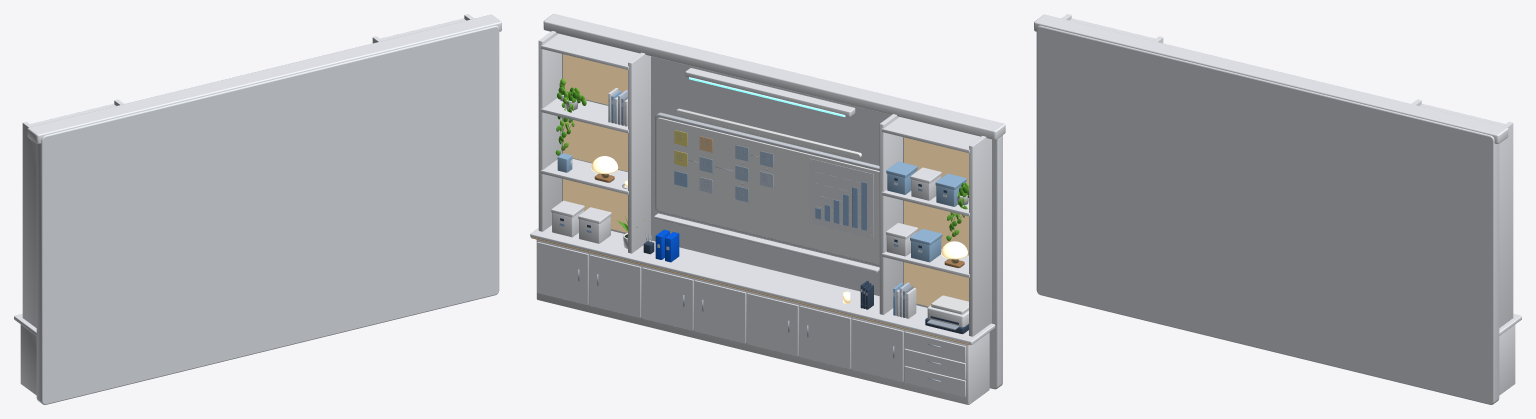
Rendered from 04-nodeworks-back-wall-center copy.glb.
3 views of the same model, side by side, from view 1: azimuth 30°, elevation 25°; view 2: azimuth 150°, elevation 25°; view 3: azimuth 330°, elevation 25° (orthographic). The views are drawn at different scales.
Visible parts, largest first — view 1: Wall__wall, Wall__white, Right_shelves_and_accessories__white, Cabinet__white; view 2: Cabinet__white, Wall__wall, Whiteboard__paper, Left_shelves_and_accessories__white, Right_shelves_and_accessories__white, Wall__white, Left_shelves_and_accessories__shelf_warm_back, Right_shelves_and_accessories__shelf_warm_back, Whiteboard__white, Right_shelves_and_accessories__softblue, Whiteboard__boardframe, Whiteboard__softblue (+7 smaller); view 3: Wall__wall, Wall__white, Left_shelves_and_accessories__white, Cabinet__white.
Part boxes in pixels (box(x1,y1,x2,y2)): Wall__wall: box(36, 25, 499, 404); Wall__white: box(27, 14, 501, 143); Right_shelves_and_accessories__white: box(22, 99, 123, 327); Cabinet__white: box(14, 314, 36, 395); Cabinet__white: box(530, 225, 995, 404); Wall__wall: box(562, 54, 1002, 389); Whiteboard__paper: box(656, 108, 879, 264); Left_shelves_and_accessories__white: box(538, 31, 650, 253); Right_shelves_and_accessories__white: box(879, 114, 991, 336); Wall__white: box(543, 14, 1005, 139); Left_shelves_and_accessories__shelf_warm_back: box(563, 54, 627, 232); Right_shelves_and_accessories__shelf_warm_back: box(904, 137, 968, 306); Whiteboard__white: box(654, 158, 879, 272); Right_shelves_and_accessories__softblue: box(886, 161, 966, 315); Whiteboard__boardframe: box(655, 112, 879, 266); Whiteboard__softblue: box(674, 171, 866, 230); Wall__wall: box(1036, 25, 1499, 404); Wall__white: box(1034, 14, 1508, 143); Left_shelves_and_accessories__white: box(1412, 99, 1513, 327); Cabinet__white: box(1499, 314, 1521, 395).
Size of the model in its own units: 4.88 by 2.72 by 0.559.
